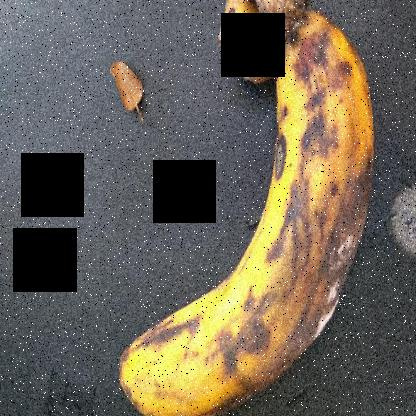overripe: (109, 11, 374, 415)
rotten: (234, 120, 382, 413)
